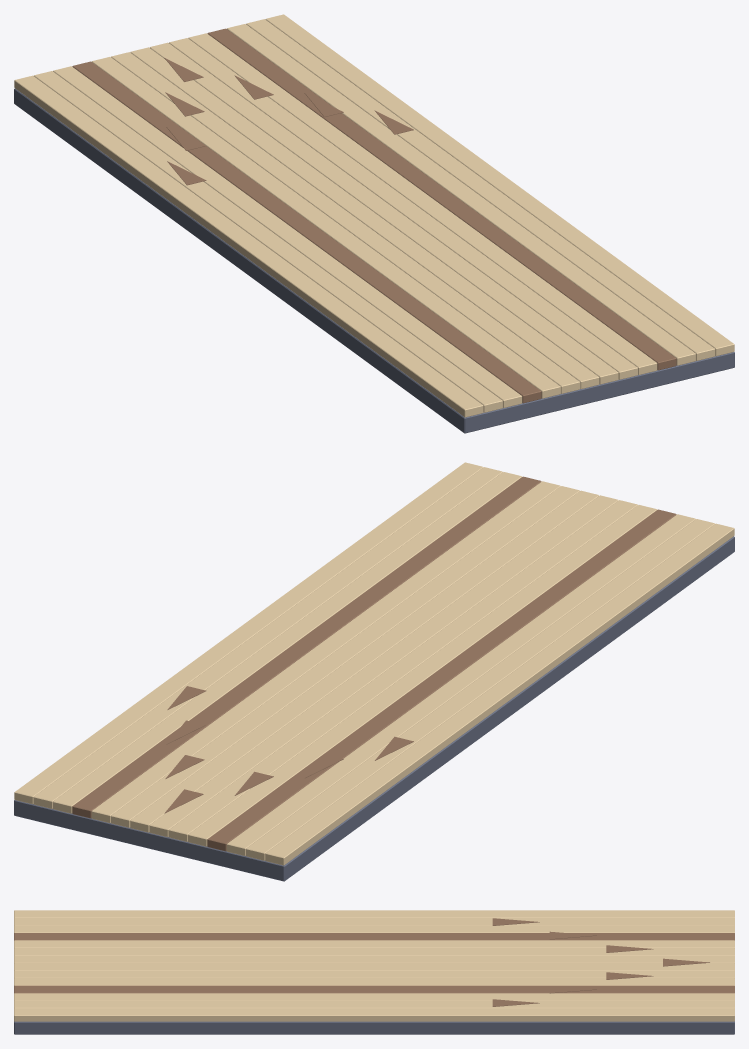
File: bowling-alley-and-pool-hall-bowling-lane-module-arrows-414780de__33837.glb
3 renders of one model, top to bottom at view 1: azimuth 30°, elevation 25°; view 2: azimuth 150°, elevation 25°; view 3: azimuth 270°, elevation 25°, orthographic. The views are drawn at different scales.
Visible parts, largest first — view 1: bowling-lane-module-arrows; view 2: bowling-lane-module-arrows; view 3: bowling-lane-module-arrows.
Part boxes in pixels (x1,y1,x2,y2): bowling-lane-module-arrows: (14,14,734,433); bowling-lane-module-arrows: (14,462,734,881); bowling-lane-module-arrows: (14,910,734,1034).
Size of the model in its own units: 1.06 by 0.0915 by 3.05.
